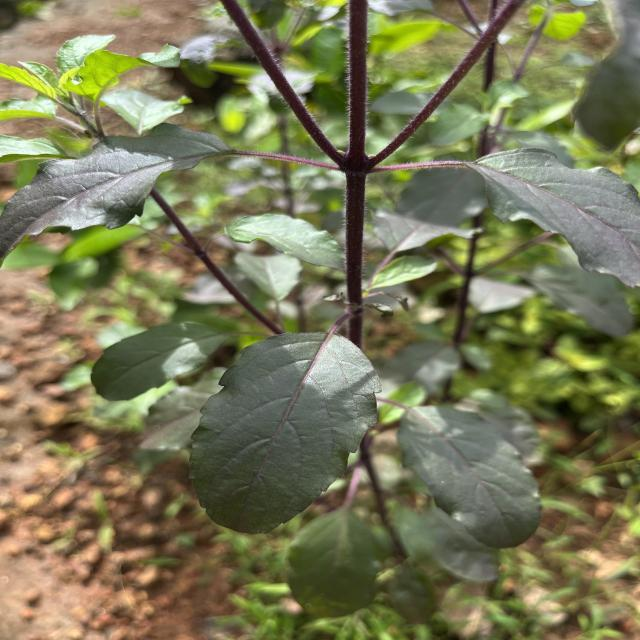Ocimum tenuiflorum: (186, 329, 384, 536)
